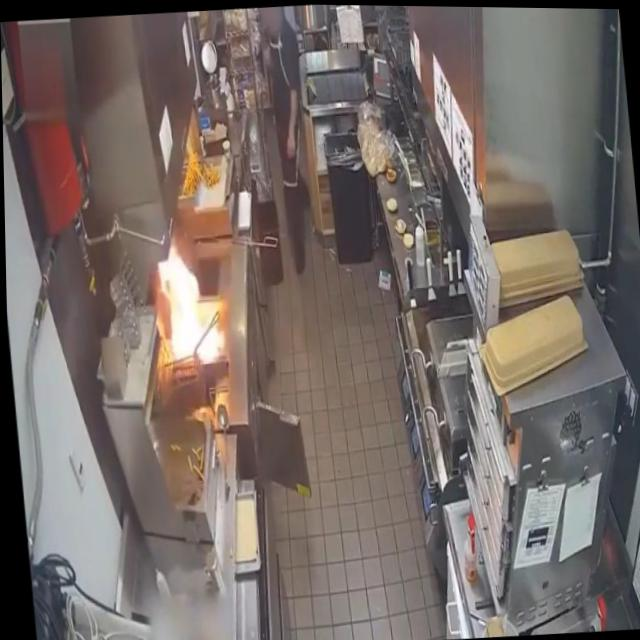fire: (151, 237, 226, 361)
